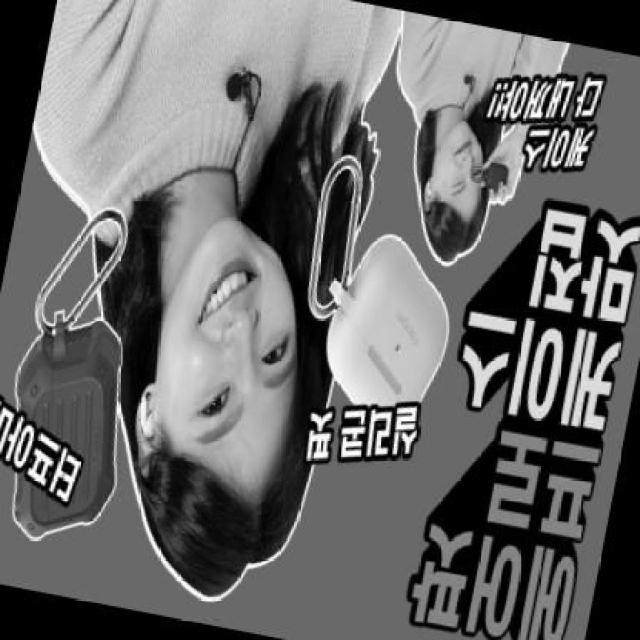earphone: (135, 387, 168, 439), (422, 175, 451, 206)
